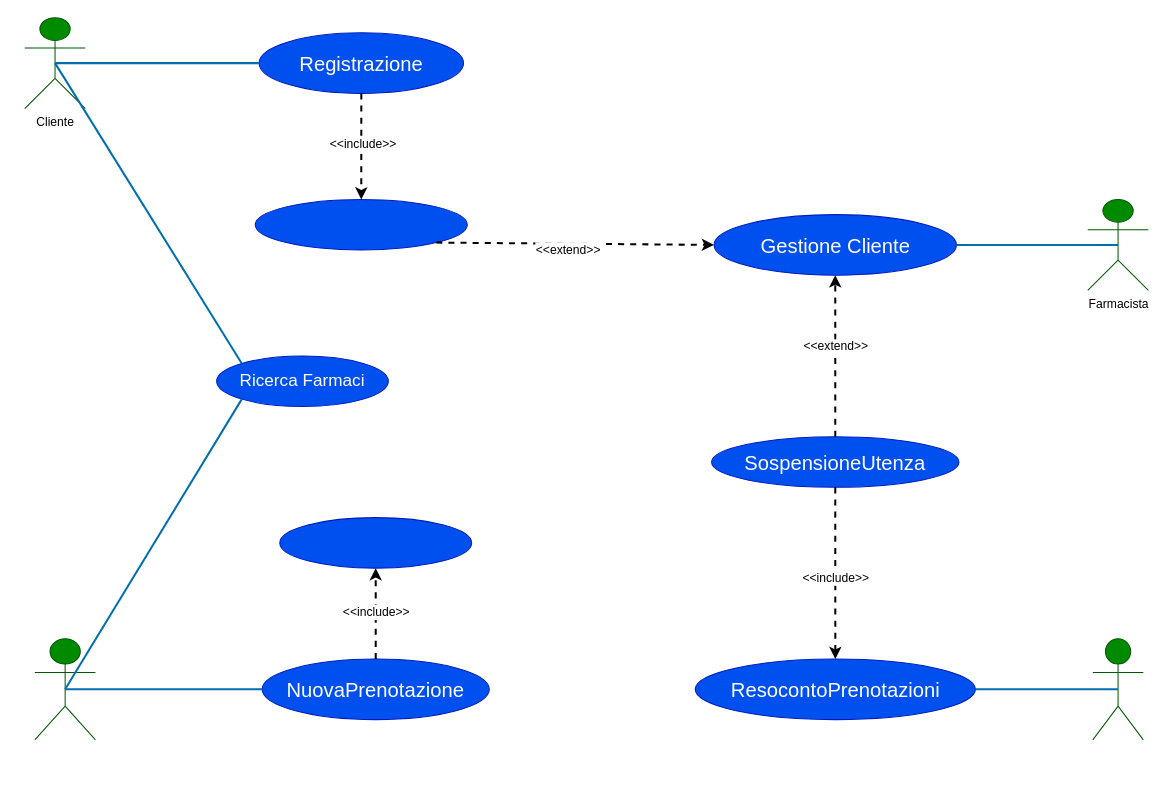
Image size: 1171x794. Some labels were removed from this diagram. The centre of each missing label's shape, as x and y in pixels:
<<event>> FineGiornata: point 1117,689
Cliente Registrato: point 64,689
Login: point 375,542
VerificaIdentità: point 360,224
